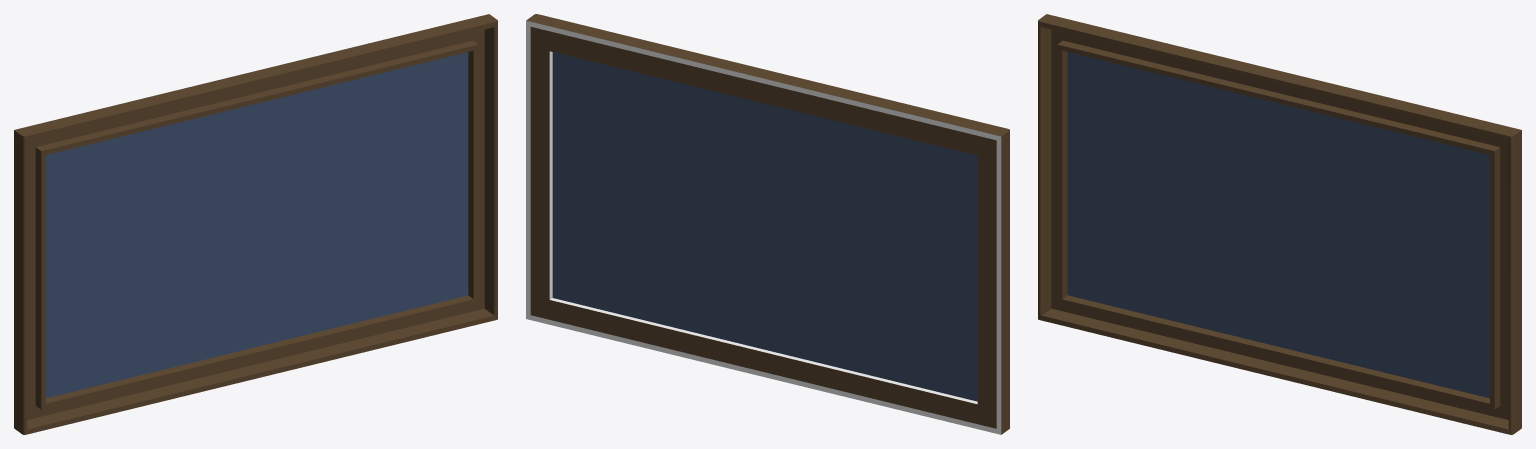
The model's file is Cuadro2.fbx.
3 views of the same model, side by side, from view 1: azimuth 30°, elevation 25°; view 2: azimuth 150°, elevation 25°; view 3: azimuth 330°, elevation 25° (orthographic).
Visible parts, largest first — view 1: Model; view 2: Model; view 3: Model.
Part boxes in pixels (<box>): Model: <box>14,14,497,434</box>; Model: <box>526,14,1009,434</box>; Model: <box>1038,14,1521,434</box>.
Bounding box in the file's own units: 1 × 0.6 × 0.035.
